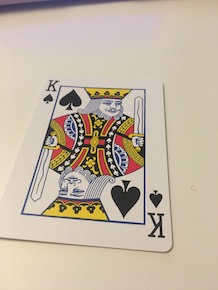KingOfSpades: (1, 72, 188, 257)
